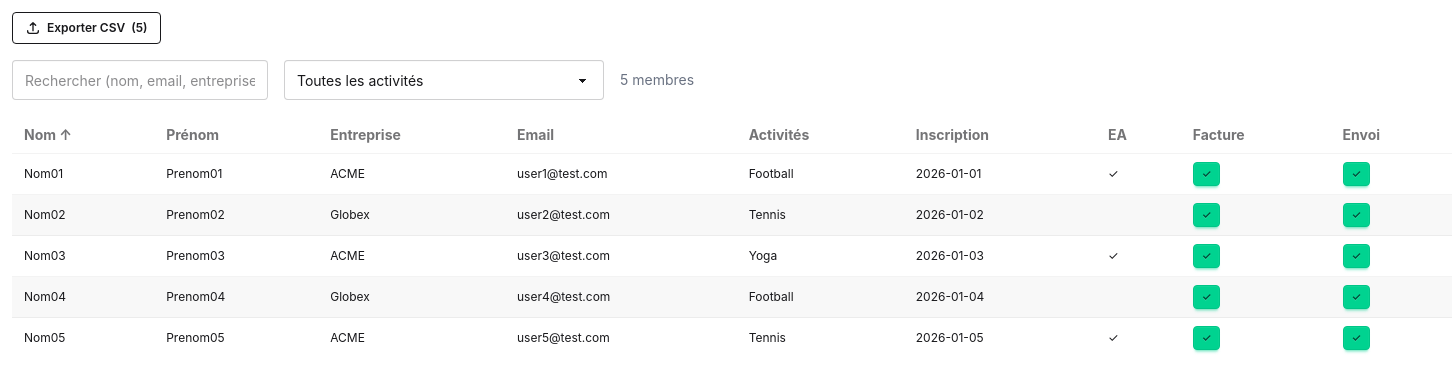
it: MemberTable › sorts by column when header clicked
Step 1. Click the button "Nom ↑" → (48, 134), box [24, 124, 72, 145]
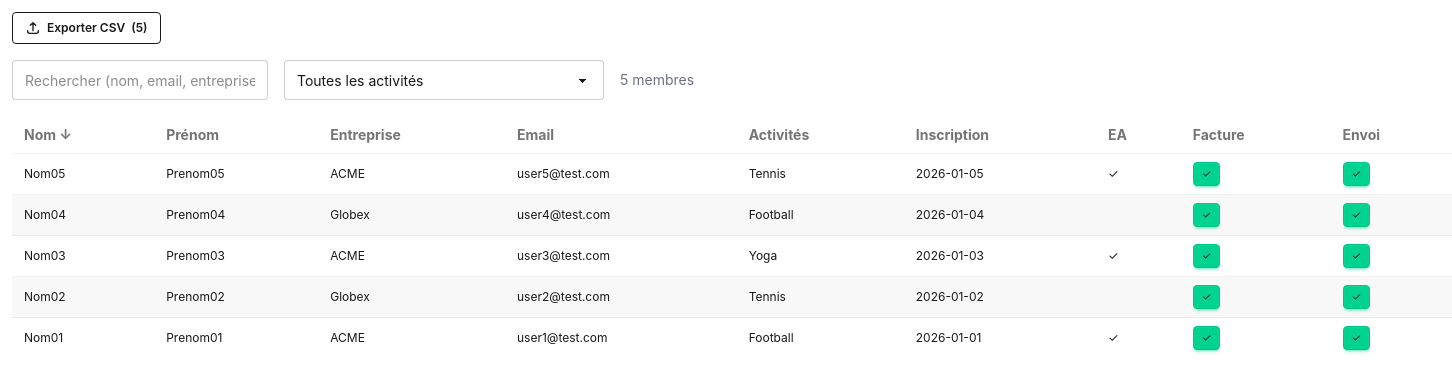
Expected: the row "Nom05 Prenom05 ACME user5@test.com Tennis 2026-01-05 ✓ ✓ ✓" is shown, [12, 154, 1451, 195]
